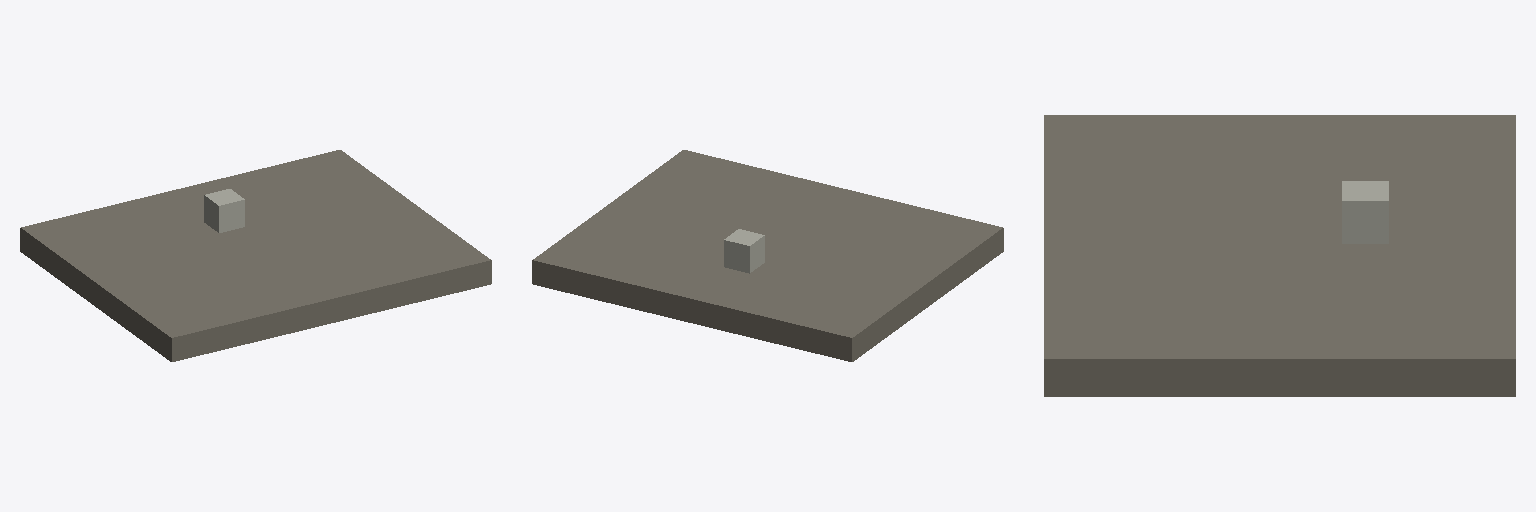
The robot description file, URDF, robot "parttoolgen_hammer_single_cube":
<?xml version="1.0"?>
<robot name="parttoolgen_hammer_single_cube">
  <link name="table_with_target_cube">
    <visual>
      <material name="wood">
        <color rgba="0.52 0.50 0.46 1.0"/>
      </material>
      <origin xyz="0 0 0"/>
      <geometry>
        <box size="0.55 0.45 0.04"/>
      </geometry>
    </visual>
    <collision>
      <origin xyz="0 0 0"/>
      <geometry>
        <box size="0.55 0.45 0.04"/>
      </geometry>
    </collision>

    <visual>
      <material name="target_cube">
        <color rgba="0.72 0.72 0.68 1.0"/>
      </material>
      <origin xyz="-0.006605778388646927 0.08190746742784838 0.042499999999999996"/>
      <geometry>
        <box size="0.045 0.045 0.045"/>
      </geometry>
    </visual>
    <collision>
      <origin xyz="-0.006605778388646927 0.08190746742784838 0.042499999999999996"/>
      <geometry>
        <box size="0.045 0.045 0.045"/>
      </geometry>
    </collision>

    <inertial>
      <mass value="500"/>
      <friction value="1.0"/>
      <inertia ixx="1000.0" ixy="0.0" ixz="0.0" iyy="1000.0" iyz="0.0" izz="1000.0"/>
    </inertial>
  </link>
</robot>

--- Render facts (derived) ---
Views: 3 orthographic renders of the robot side by side, from view 1: azimuth 30°, elevation 25°; view 2: azimuth 150°, elevation 25°; view 3: azimuth 270°, elevation 25°.
Model parttoolgen_hammer_single_cube with 1 links and 0 joints (none), rooted at table_with_target_cube, posed every joint at zero.
Links seen in each view (by area): view 1: table_with_target_cube; view 2: table_with_target_cube; view 3: table_with_target_cube.
Boxes of the visible links, bbox=[...] form: table_with_target_cube: bbox=[20, 150, 491, 361]; table_with_target_cube: bbox=[532, 150, 1003, 361]; table_with_target_cube: bbox=[1044, 115, 1515, 396].
Size in the robot's own frame: 0.55 by 0.45 by 0.085 metres.
Geometry: primitives only (box / cylinder / sphere), no mesh files.
